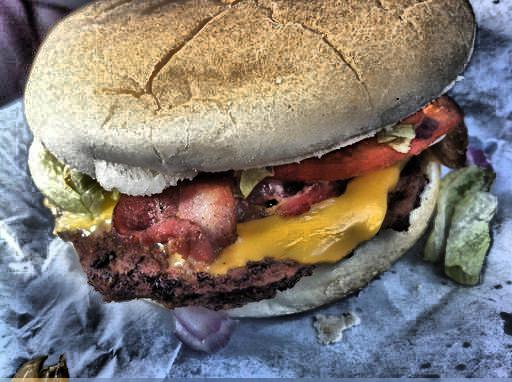burger: (26, 1, 478, 338)
